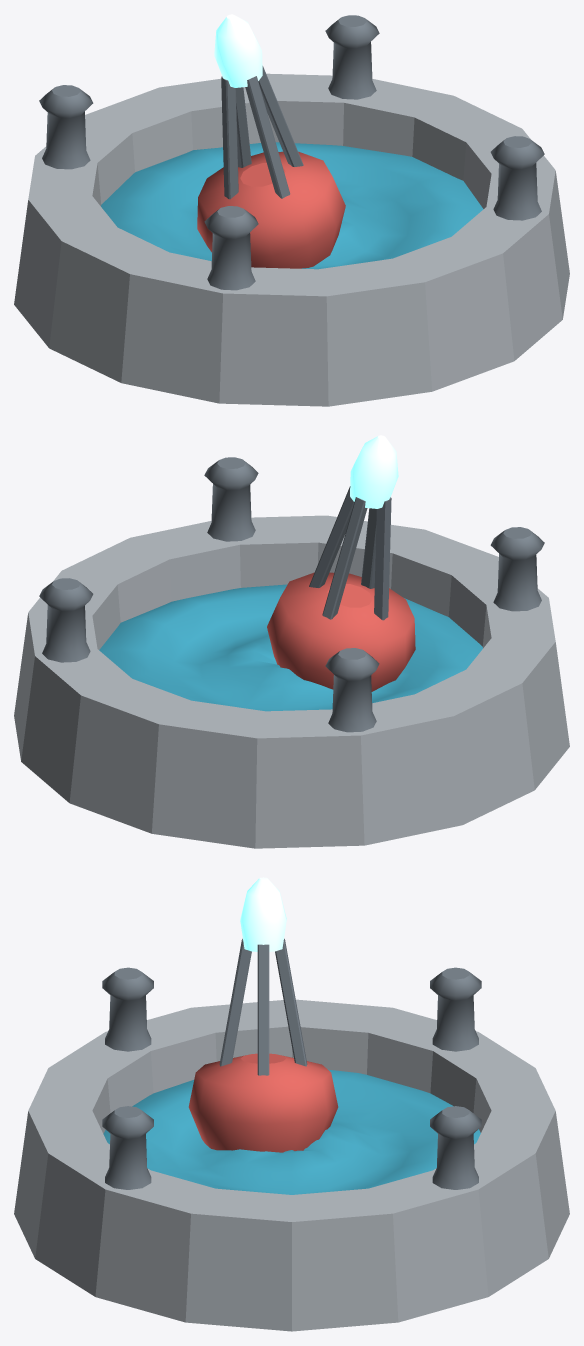
The model's file is prop_water_basin.glb.
3 views of the same model, one above another, from view 1: azimuth 30°, elevation 25°; view 2: azimuth 150°, elevation 25°; view 3: azimuth 270°, elevation 25° (orthographic).
Visible parts, largest first — view 1: Body; view 2: Body; view 3: Body.
Boxes of the visible parts, box(x1,y1,x2,y2) form: Body: box(14, 14, 569, 406); Body: box(14, 435, 569, 848); Body: box(14, 877, 569, 1331).
Size of the model in its own units: 0.78 by 0.464 by 0.78.
